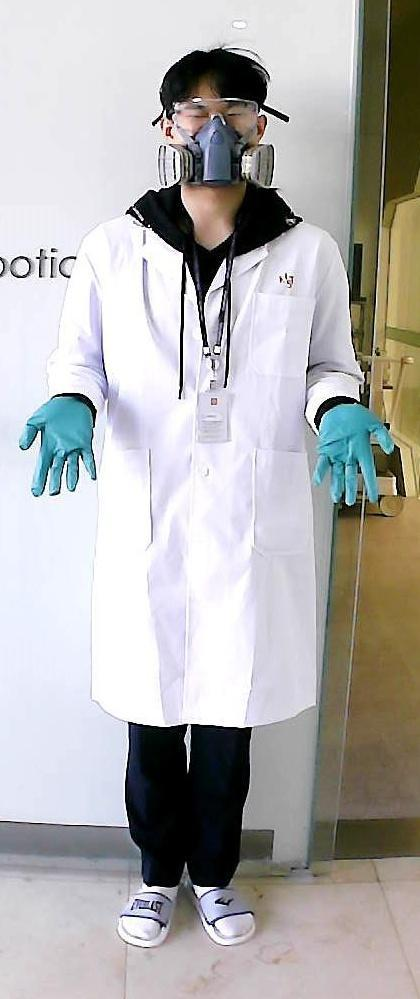lab_coat: (99, 236, 314, 710)
